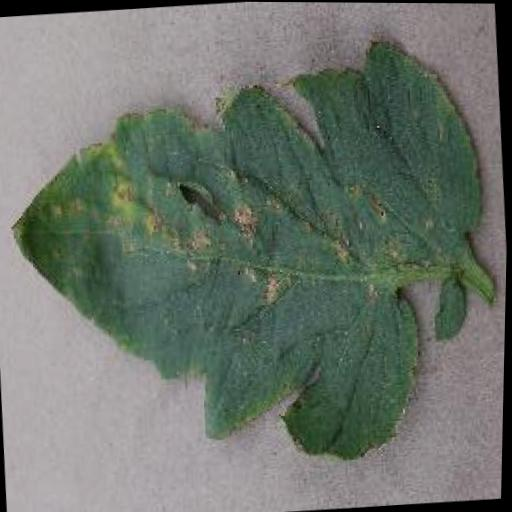Bacterial Spot: (0, 20, 512, 493)
